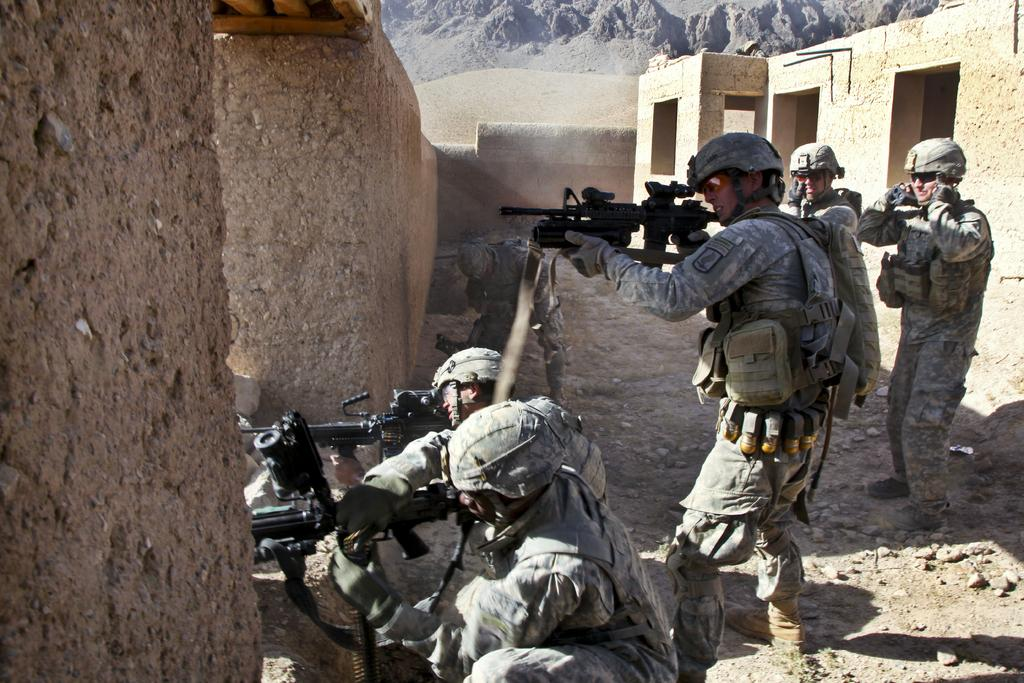non-violence: (624, 133, 862, 649), (332, 394, 674, 682), (855, 134, 990, 528), (432, 346, 522, 594), (782, 139, 862, 409), (460, 222, 572, 402)
weapon: (251, 406, 464, 562), (497, 172, 721, 270), (238, 382, 451, 460)
